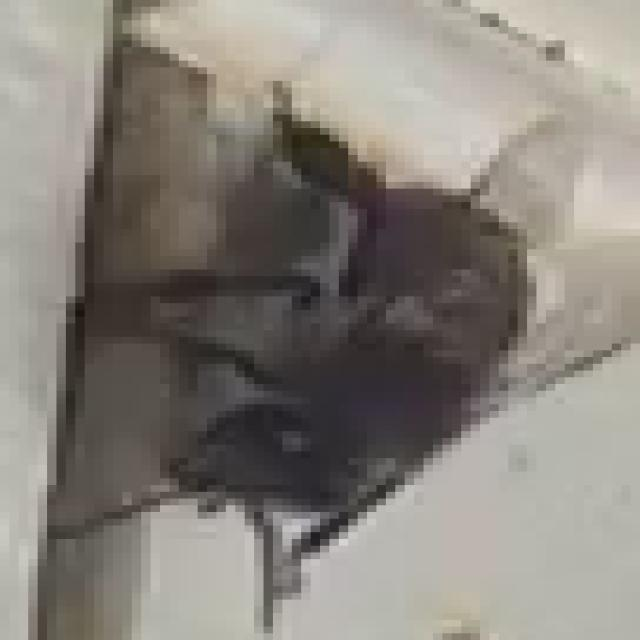honeybee: (149, 83, 610, 591)
